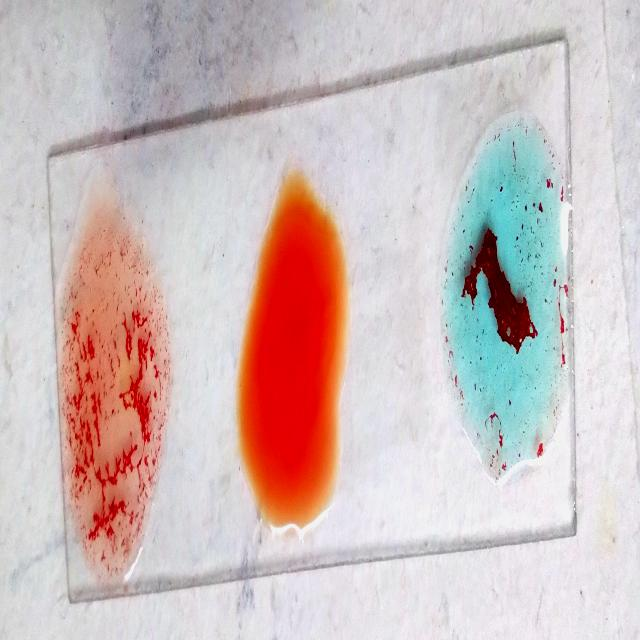A: (446, 123, 570, 479)
D: (66, 210, 158, 563)
